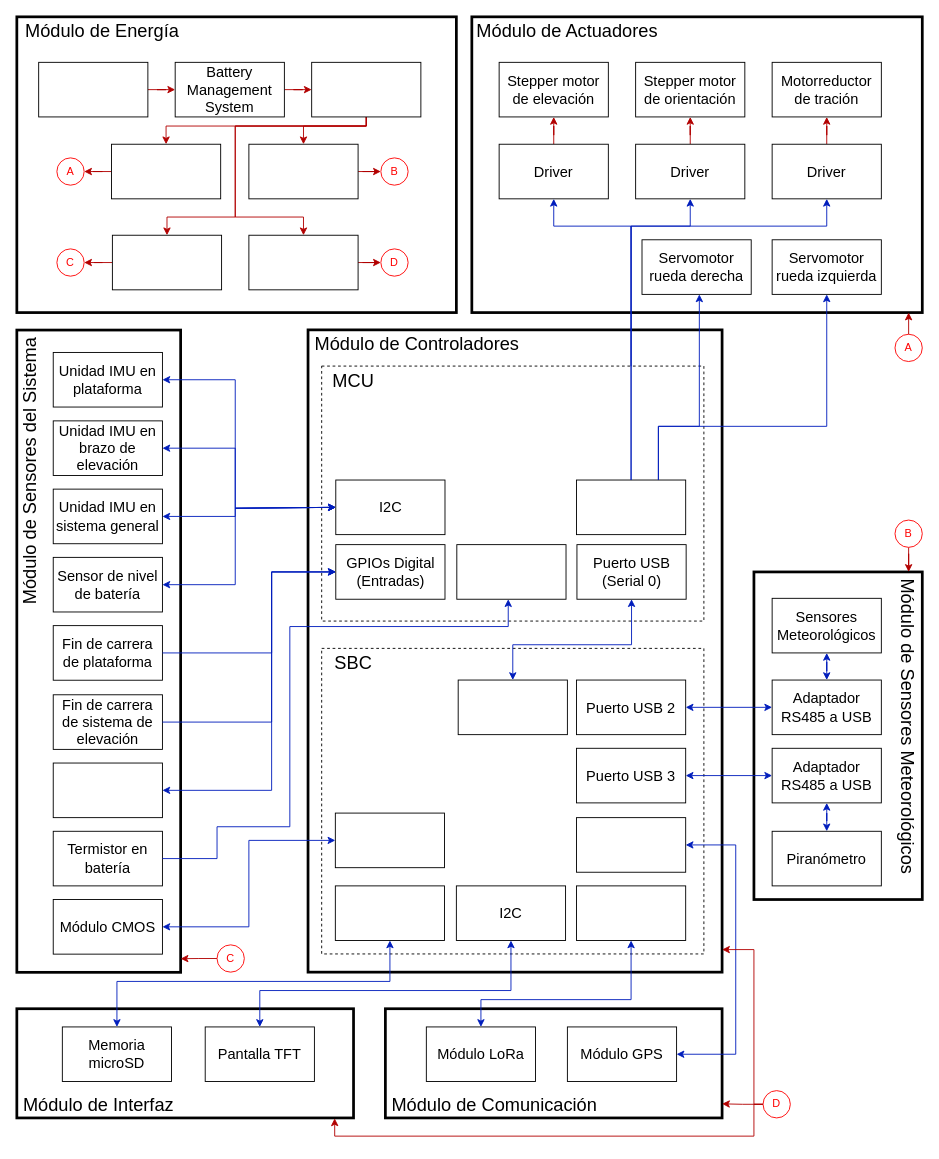
The diagram is 939 pixels wide and 1159 high, and some of its shapes have lost their labels. Here are the shapes that lost their labels. From the top down, the centre of each, then its label:
At pixel 93 89: "Batería".
At pixel 366 89: "Switch On-Off".
At pixel 166 171: "Regulador de voltaje para actuadores".
At pixel 303 171: "Reg. de voltaje para sensores meteorológicos".
At pixel 166 262: "Reg. de voltaje para sensores del sistema".
At pixel 303 262: "Reg. de voltaje para controladores interfaz y comm.".
At pixel 631 507: "GPIOs Digital (Salidas)".
At pixel 511 571: "ADC".
At pixel 512 707: "Puerto USB 1 (Serial 0)".
At pixel 107 790: "Encoder Rotativo Incremental".
At pixel 389 840: "Puerto CSI".
At pixel 631 844: "Puerto Serial 1".
At pixel 389 912: "Puerto de Memoria microSD".
At pixel 631 912: "SPI".
